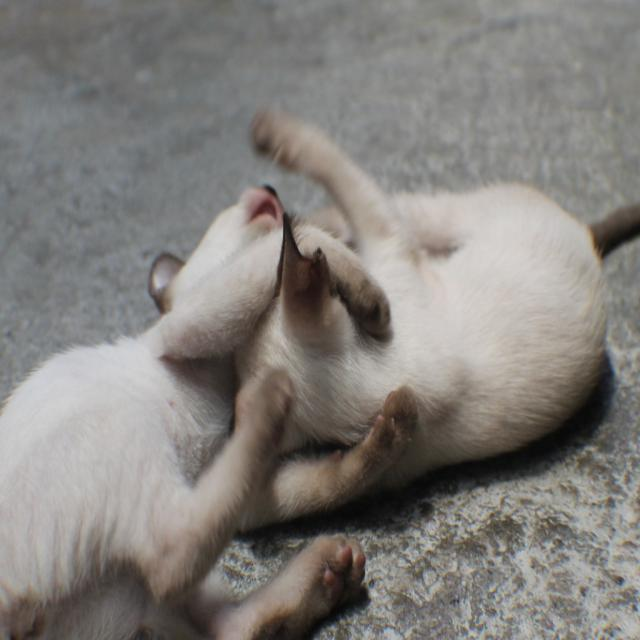Cat: (248, 124, 623, 466)
